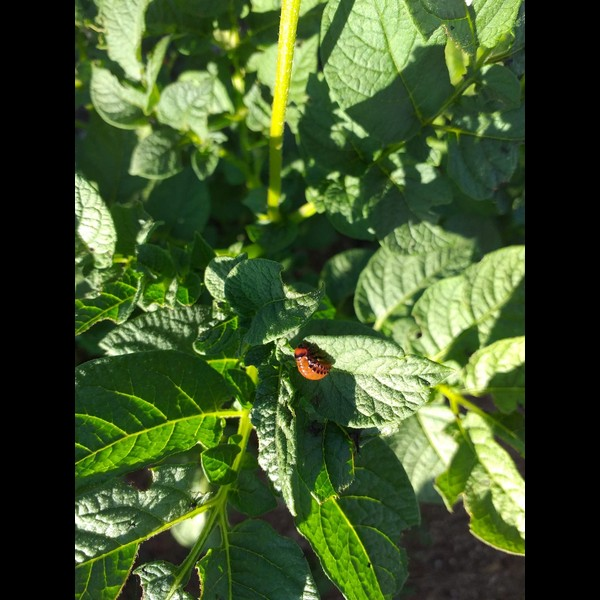hrosc: (293, 344, 334, 381)
